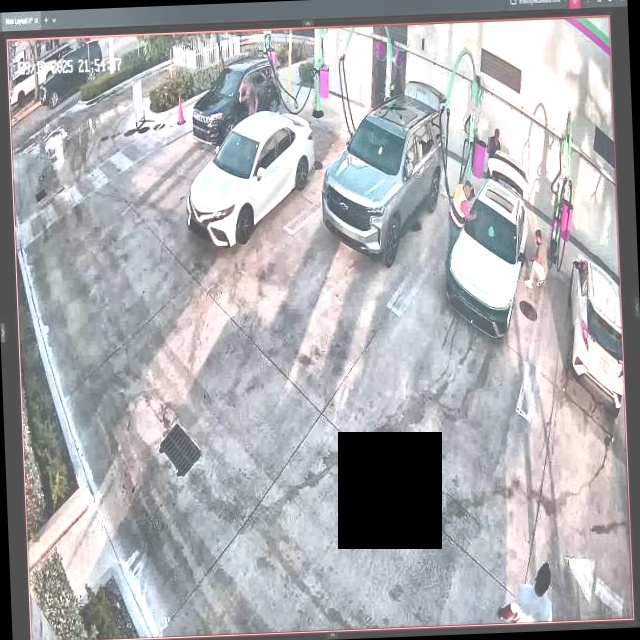Car: (318, 83, 448, 267), (181, 104, 319, 249), (442, 154, 534, 338)
